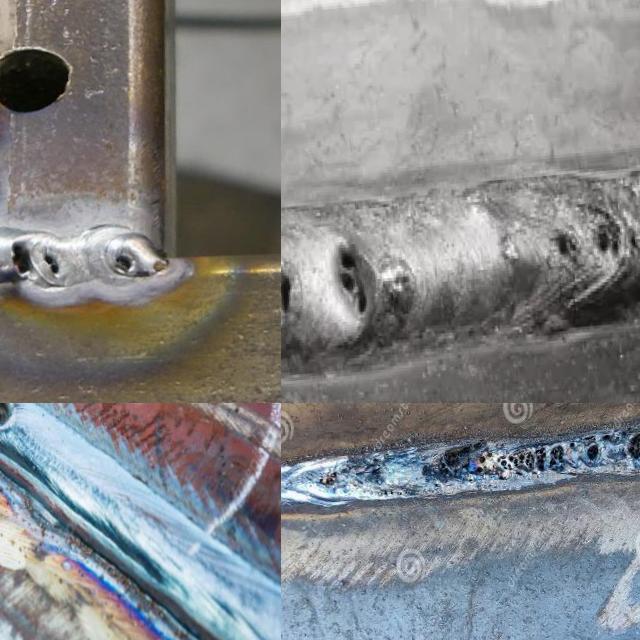defect: (434, 424, 612, 484), (330, 236, 373, 324), (588, 219, 637, 261), (546, 219, 582, 267), (4, 239, 32, 279), (281, 251, 296, 324), (40, 249, 64, 277), (316, 464, 340, 491), (623, 431, 640, 464), (0, 403, 16, 431), (112, 254, 134, 274)
